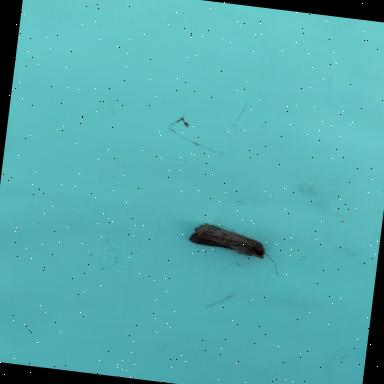abw: (178, 216, 290, 280)
